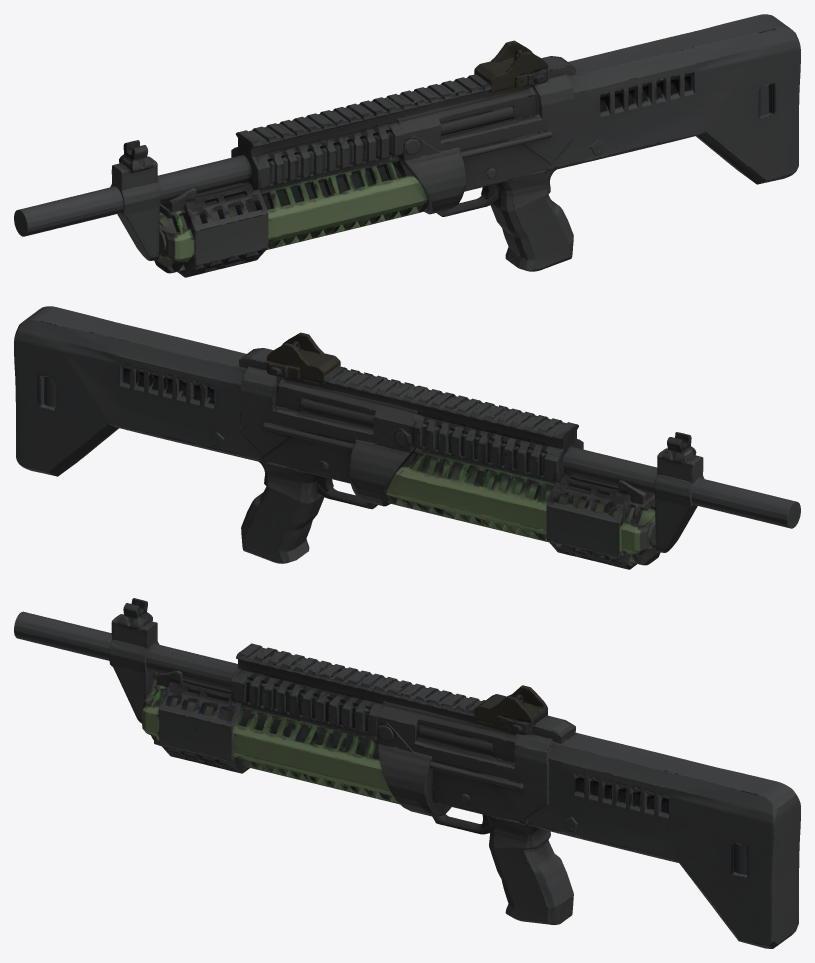
The model's file is GUN.glb.
3 views of the same model, one above another, from view 1: azimuth 30°, elevation 25°; view 2: azimuth 150°, elevation 25°; view 3: azimuth 330°, elevation 25° (orthographic).
Parts seen in each view (by area): view 1: node_0; view 2: node_0; view 3: node_0.
Part boxes in pixels (left/top/right/bottom): node_0: left=14, top=14, right=800, bottom=277; node_0: left=14, top=306, right=800, bottom=569; node_0: left=14, top=598, right=800, bottom=948.
Size of the model in its own units: 1.18 by 0.3237 by 0.1102.
Materials: 1 (1 with a texture image).
